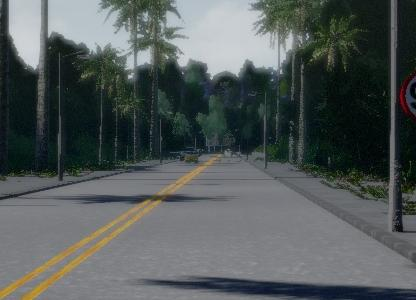Speed_90: (397, 65, 416, 125)
